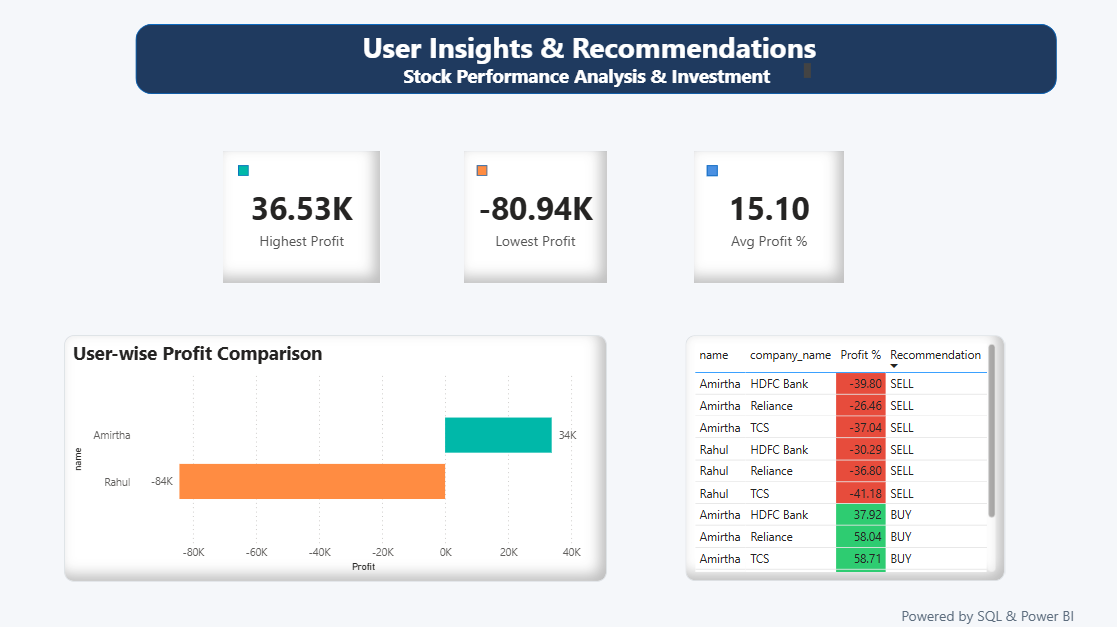

The page's visual inventory and layout, read from the dashboard file:
{"tool":"powerbi","page":{"name":"Page 2","canvas":[1280,720],"ordinal":1},"visuals":[{"type":"clusteredBarChart","title":"User-wise Profit Comparison","fields":{"Category":["users.name"],"Y":["market_data.Profit"]},"box":[76.2,383.8,620,281.2],"z":0},{"type":"shape","box":[156.7,28.3,1053,80],"z":1000},{"type":"textbox","box":[411.4,28.6,541.4,67.1],"z":2000},{"type":"textbox","box":[458.3,68.3,475,40],"z":3000},{"type":"card","fields":{"Values":["market_data.Best Profit"]},"box":[257.1,174.3,180,150],"z":4000},{"type":"card","fields":{"Values":["market_data.Worst Profit"]},"box":[532.9,174.3,162.9,150],"z":5000},{"type":"card","fields":{"Values":["stocks.Avg Profit %"]},"box":[795.7,174.3,171.4,150],"z":6000},{"type":"textbox","box":[1027.5,688.8,228.8,31.2],"z":7000},{"type":"tableEx","fields":{"Values":["users.name","stocks.company_name","transactions.Profit %","transactions.Recommendation"]},"box":[785.3,384.1,364.4,281],"z":8000},{"type":"shape","box":[274.8,190.2,12.3,12.3],"z":9000},{"type":"shape","box":[547.2,190,12.2,12.2],"z":10000},{"type":"shape","box":[810.6,190,12.5,12.5],"z":11000}]}

Visuals, with their boxes in screenshot pixels (x1, y1, x2, y2), scaled from the page's 1280x720 canvas onto the 1117x627 screenshot:
"User-wise Profit Comparison" clusteredBarChart: [left=66, top=334, right=608, bottom=579]
shape: [left=137, top=25, right=1056, bottom=94]
textbox: [left=359, top=25, right=831, bottom=83]
textbox: [left=400, top=59, right=814, bottom=94]
card - market_data.Best Profit: [left=224, top=152, right=381, bottom=282]
card - market_data.Worst Profit: [left=465, top=152, right=607, bottom=282]
card - stocks.Avg Profit %: [left=694, top=152, right=844, bottom=282]
textbox: [left=897, top=600, right=1096, bottom=626]
tableEx - users.name x stocks.company_name: [left=685, top=334, right=1003, bottom=579]
shape: [left=240, top=166, right=251, bottom=176]
shape: [left=478, top=165, right=488, bottom=176]
shape: [left=707, top=165, right=718, bottom=176]
